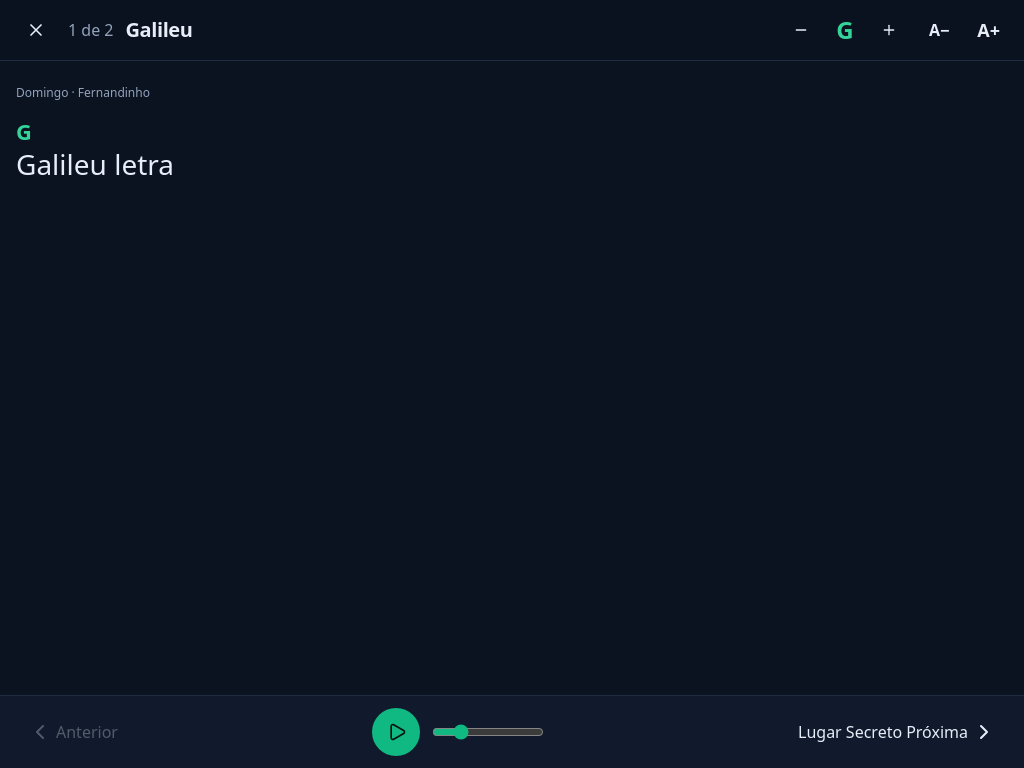
Scenario: stage page › opens the first song, skips missing songs and saves the key per item
Check: the heading "Galileu" is shown, box x1=126 y1=16 x2=192 y2=43
Check: the text "1 de 2" is shown, box x1=68 y1=18 x2=114 y2=42
Press ArrowRight
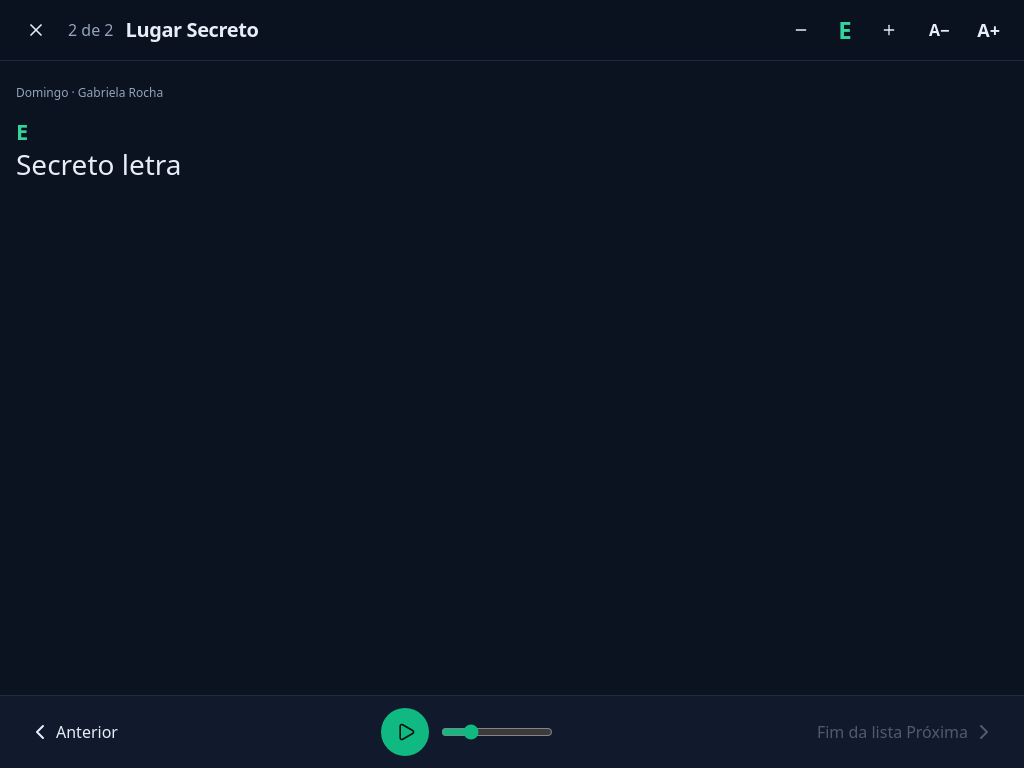
Check: the heading "Lugar Secreto" is shown, box x1=126 y1=16 x2=258 y2=43
Check: the text "2 de 2" is shown, box x1=68 y1=18 x2=114 y2=42
Click the button named "Meio tom acima" at (889, 30), box x1=869 y1=10 x2=909 y2=50
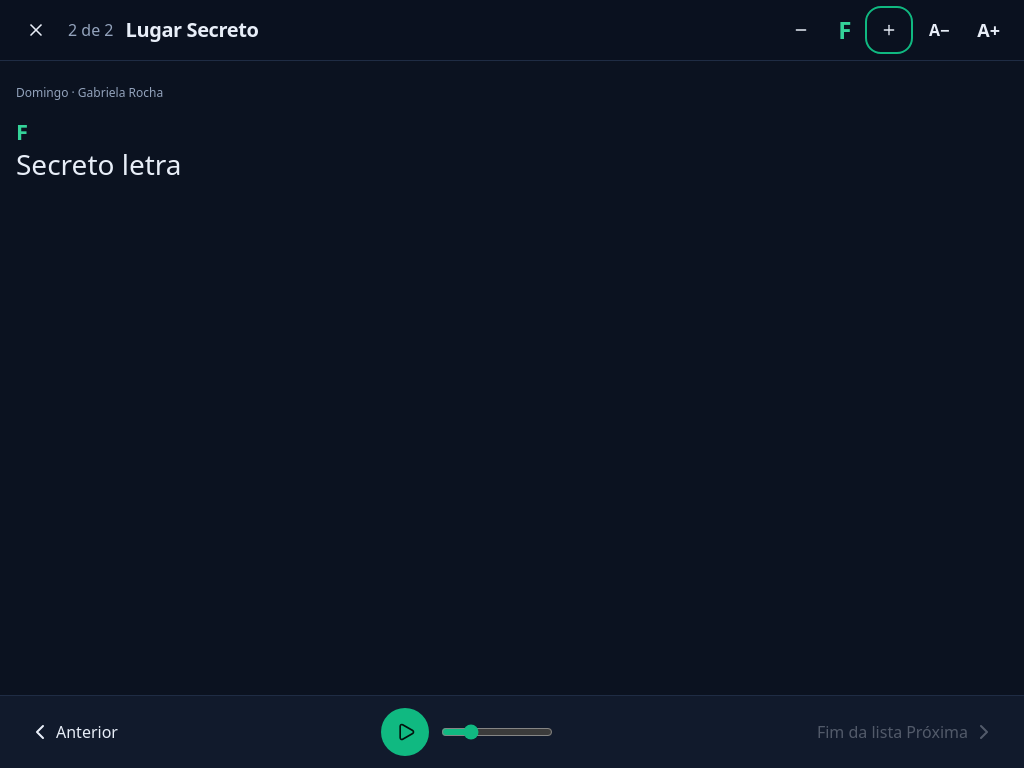
Click the button named "Meio tom acima" at (889, 30), box x1=869 y1=10 x2=909 y2=50
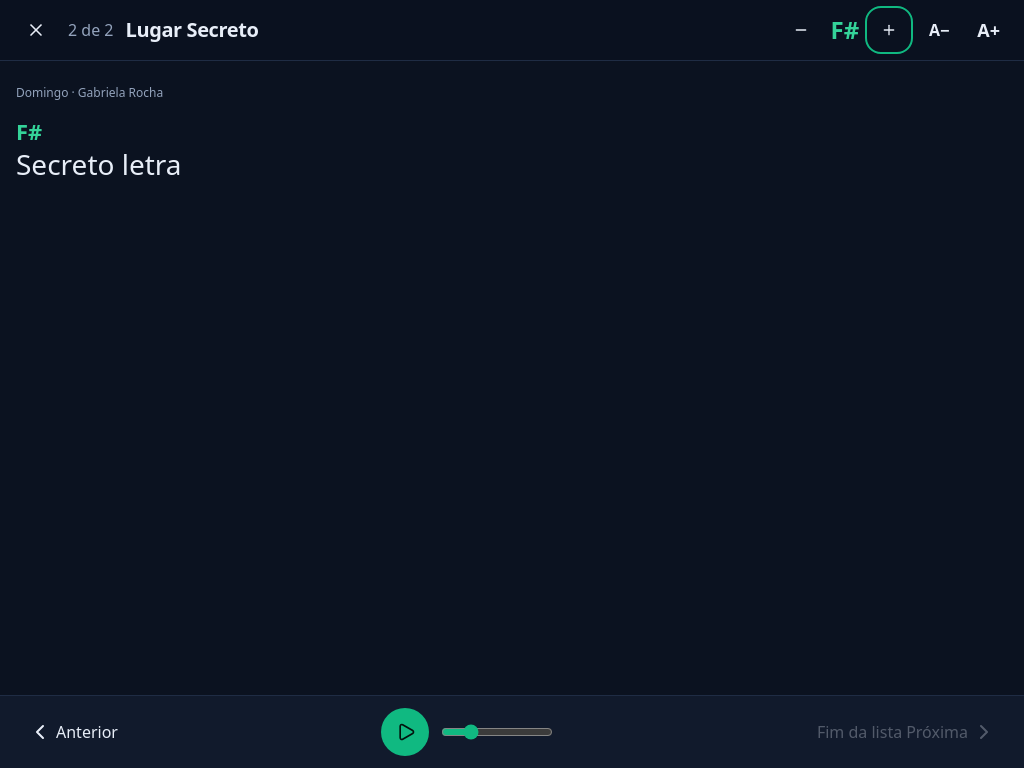
Check: the text "F#" in the row of "Lugar Secreto" is shown, box x1=830 y1=13 x2=859 y2=46
